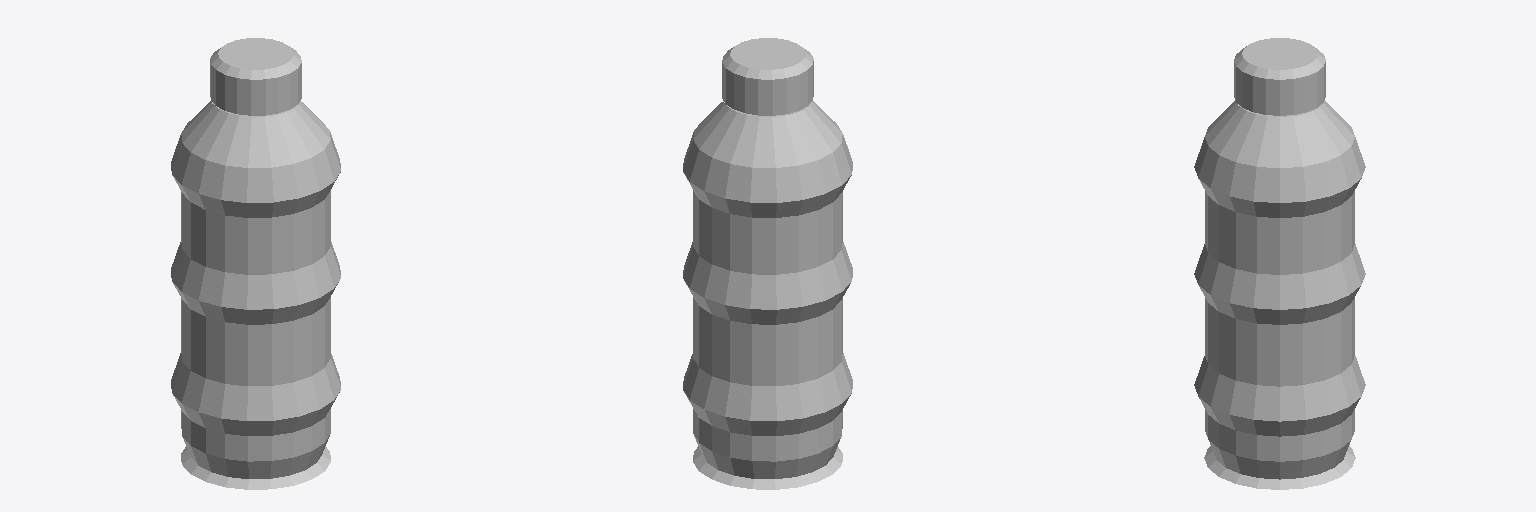
Rendered from bottle.sdf.obj.
The picture shows the model from 3 angles: view 1: azimuth 30°, elevation 25°; view 2: azimuth 150°, elevation 25°; view 3: azimuth 270°, elevation 25°; orthographic projection.
Visible parts, largest first — view 1: SoftBody; view 2: SoftBody; view 3: SoftBody.
Part boxes in pixels (left/top/right/bottom): SoftBody: left=171, top=38, right=340, bottom=489; SoftBody: left=683, top=38, right=852, bottom=489; SoftBody: left=1194, top=38, right=1365, bottom=489.
Bounding box in the file's own units: 0.3827 × 0.9932 × 0.3827.